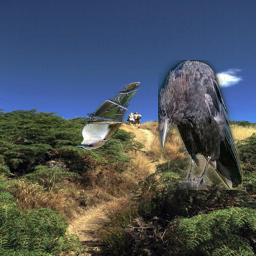Crow: (158, 60, 243, 190)
Cuckoo: (77, 82, 141, 151)
